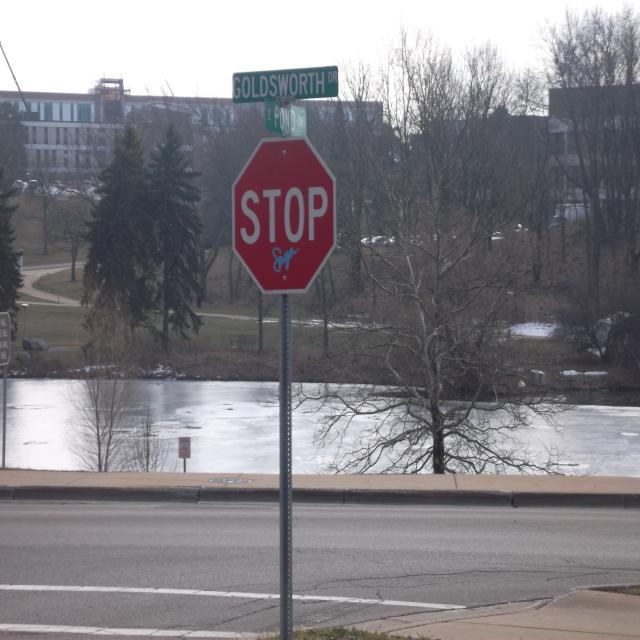stop: (228, 134, 339, 295)
